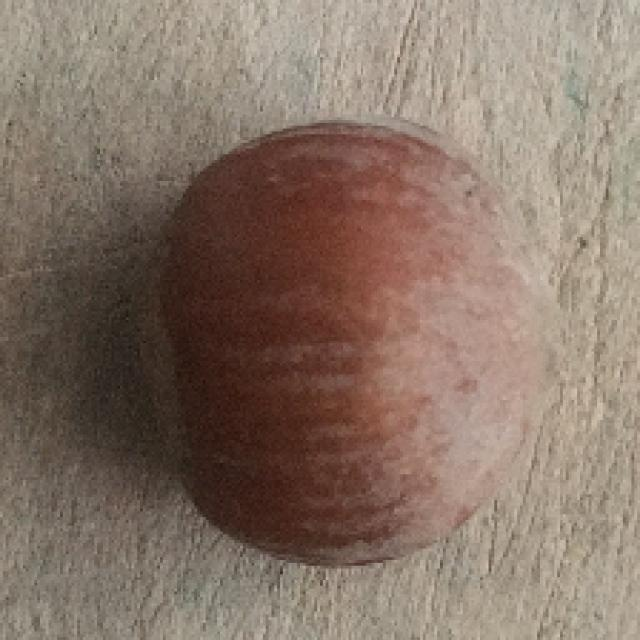qualityHazelnut: (134, 117, 554, 576)
